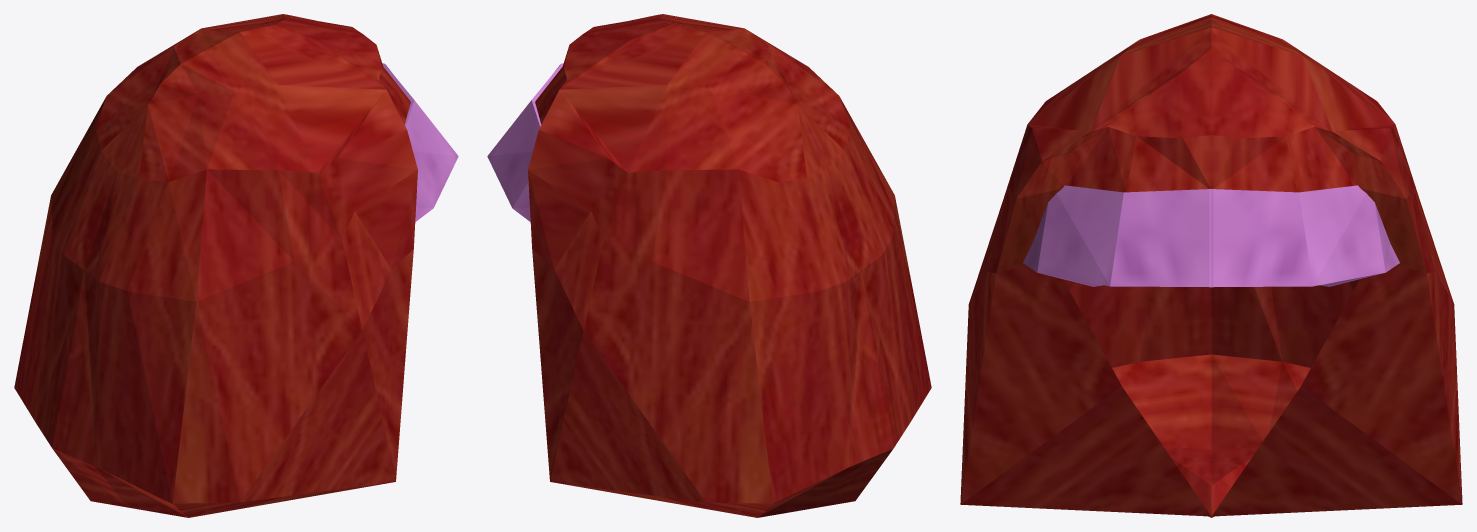
Rendered from RED LONGHAIR WIG.fbx.
3 views of the same model, side by side, from view 1: azimuth 30°, elevation 25°; view 2: azimuth 150°, elevation 25°; view 3: azimuth 270°, elevation 25° (orthographic). The views are drawn at different scales.
Visible parts, largest first — view 1: RED_LONGHAIR_WIG; view 2: RED_LONGHAIR_WIG; view 3: RED_LONGHAIR_WIG.
Part boxes in pixels (left/top/right/bottom): RED_LONGHAIR_WIG: left=14, top=14, right=458, bottom=517; RED_LONGHAIR_WIG: left=487, top=14, right=931, bottom=517; RED_LONGHAIR_WIG: left=960, top=14, right=1462, bottom=517.
Size of the model in its own units: 35.06 by 38.75 by 34.77.
